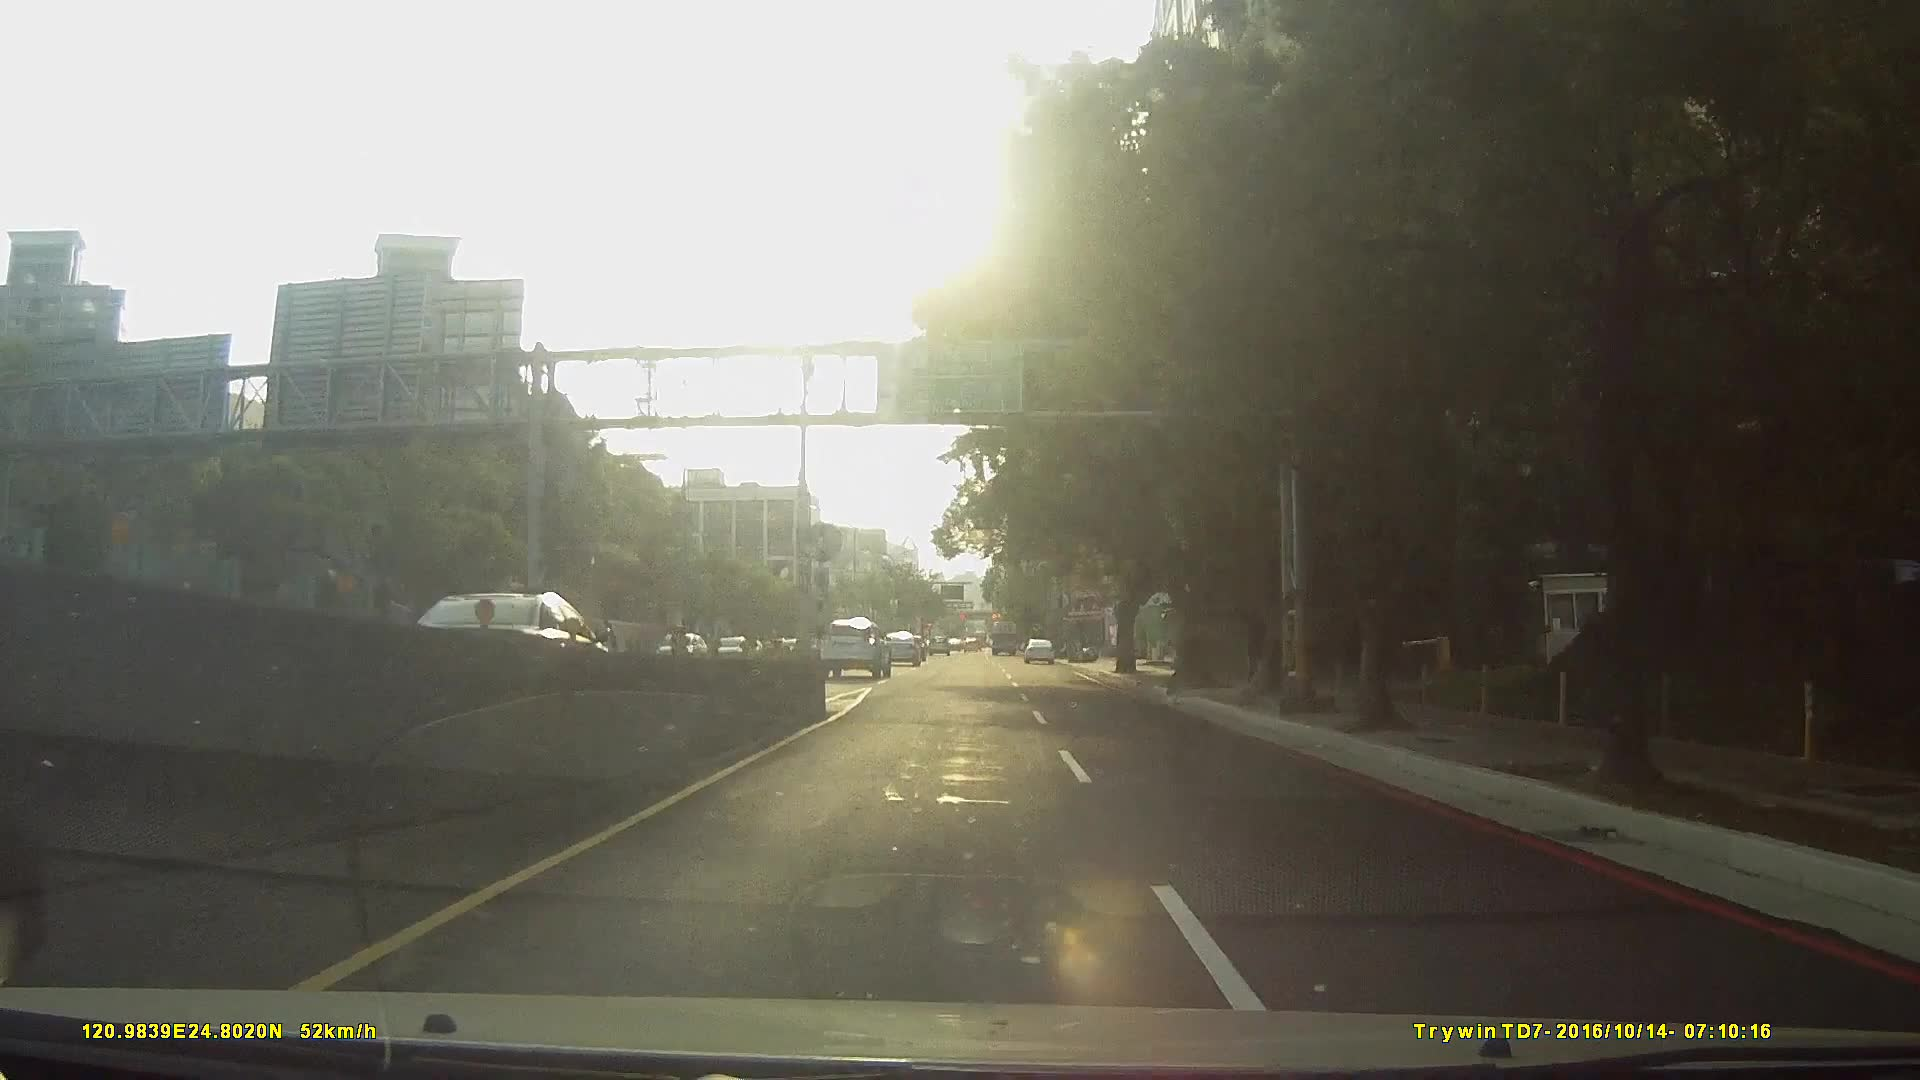vehicle: (820, 613, 891, 675), (880, 628, 923, 665), (986, 615, 1019, 651), (1021, 636, 1055, 662)
